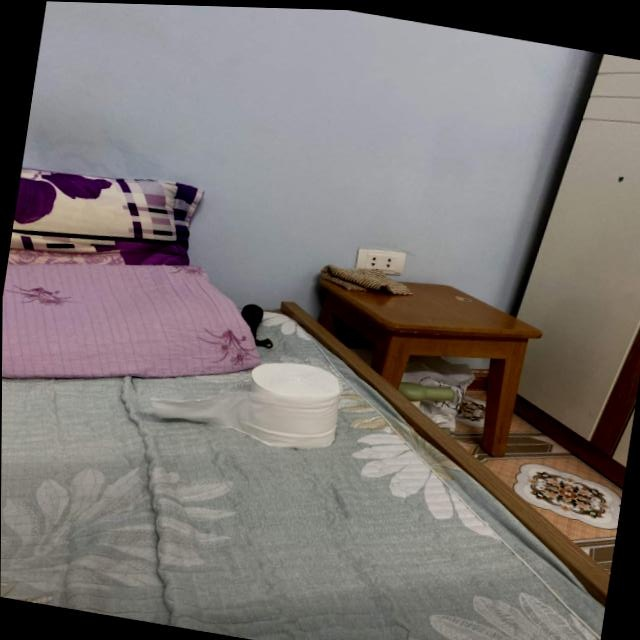outlet: (354, 245, 407, 279)
